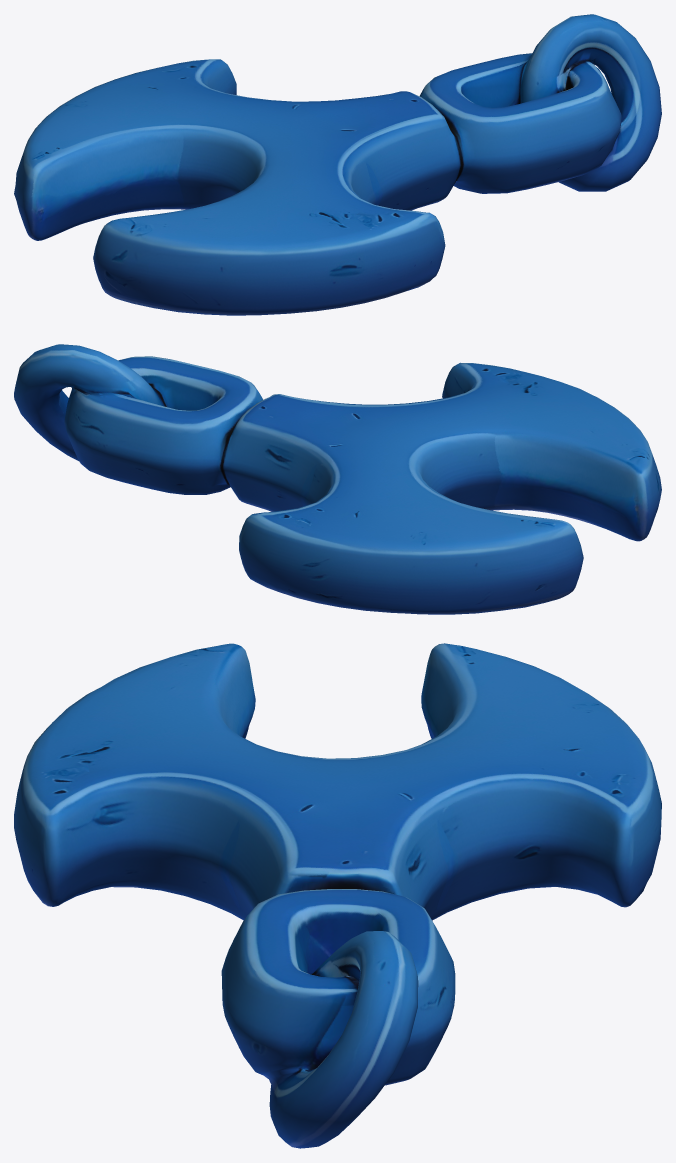
Rendered from gancho.fbx.
3 renders of one model, top to bottom at view 1: azimuth 30°, elevation 25°; view 2: azimuth 150°, elevation 25°; view 3: azimuth 270°, elevation 25°, orthographic. The views are drawn at different scales.
Visible parts, largest first — view 1: tripo_node_598827ca; view 2: tripo_node_598827ca; view 3: tripo_node_598827ca.
Part boxes in pixels (box(x1,y1,x2,y2)): tripo_node_598827ca: box(14, 14, 661, 315); tripo_node_598827ca: box(14, 344, 661, 614); tripo_node_598827ca: box(14, 643, 661, 1148).
Bounding box in the file's own units: 0.998 × 0.2346 × 0.6808.
Materials: 1 (1 with a texture image).
